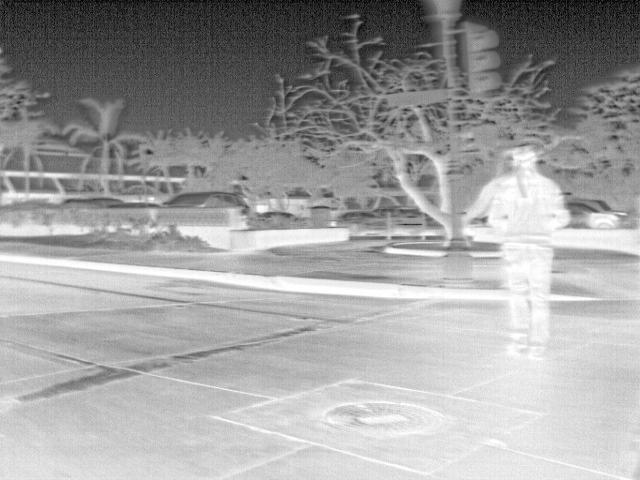car: (159, 192, 252, 220), (565, 206, 621, 231), (332, 211, 382, 237), (573, 198, 629, 216), (258, 212, 303, 228)
person: (486, 148, 570, 358)
